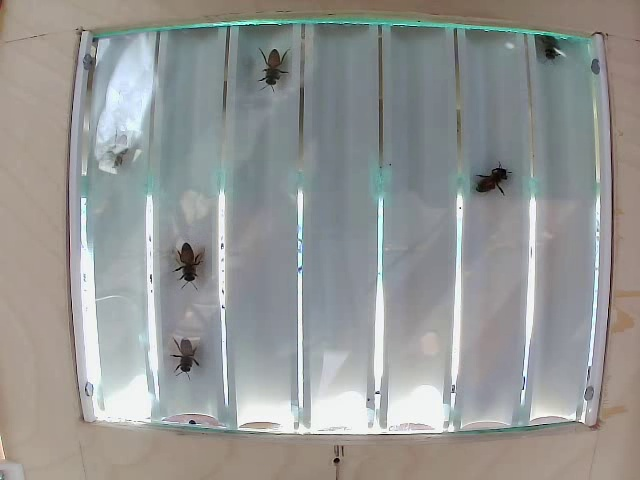bee: (472, 164, 516, 204), (246, 54, 294, 88), (169, 244, 203, 280), (532, 39, 564, 72), (182, 331, 207, 357)
